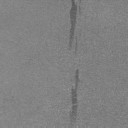red iron: (68, 0, 82, 51), (70, 68, 80, 128)
